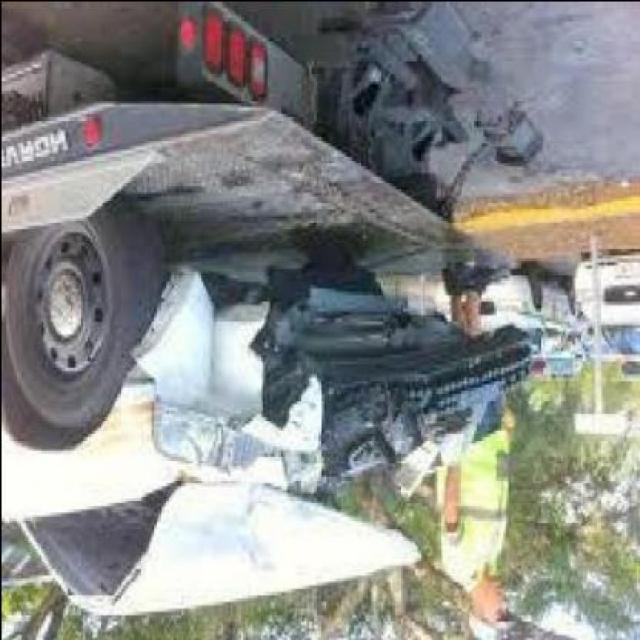damage: (18, 271, 540, 610)
